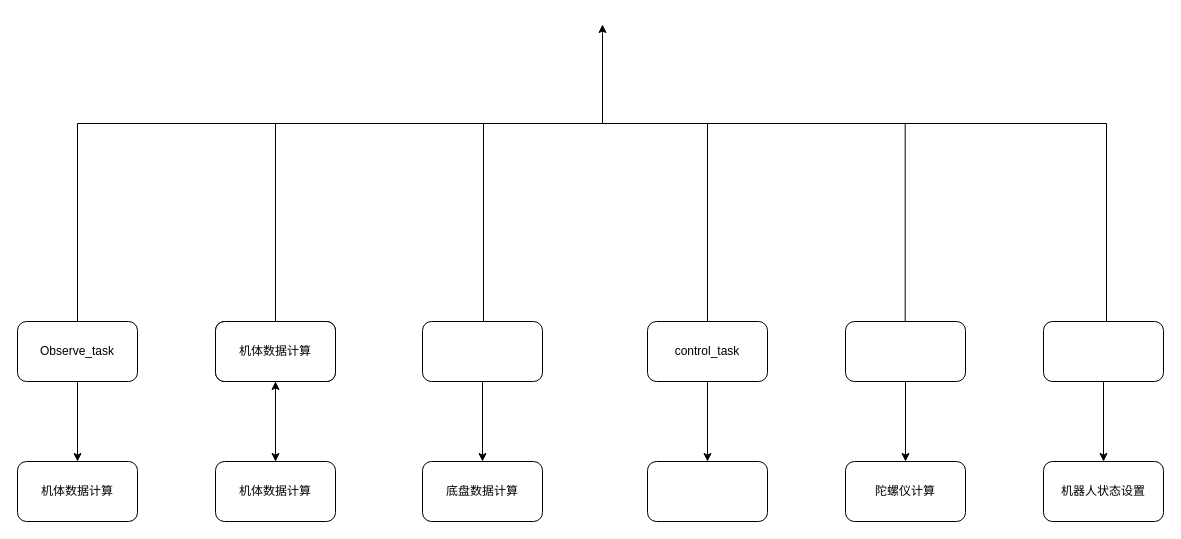
This 1181x539 diagram has some shape labels left out. The box of each missing label's shape, as (x1, y1, x2, y2) in pixels:
ChassisR_task: (422, 320, 542, 382)
INS_task: (844, 320, 966, 382)
Remote_task: (1042, 320, 1164, 382)
电机总控制函数: (646, 460, 768, 522)
